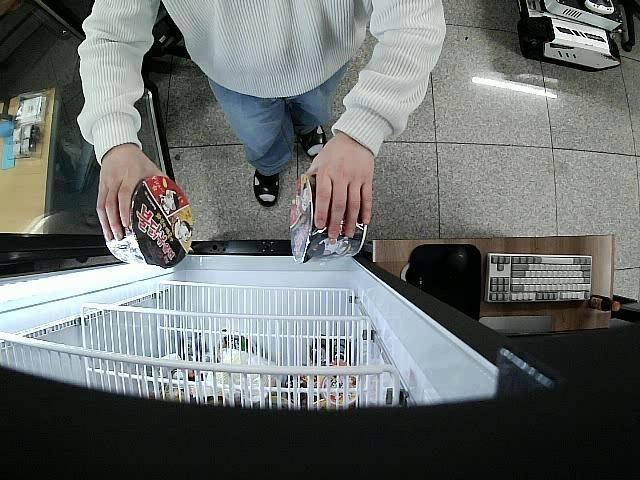07_buldak_L: (104, 175, 194, 269), (288, 174, 366, 266)
